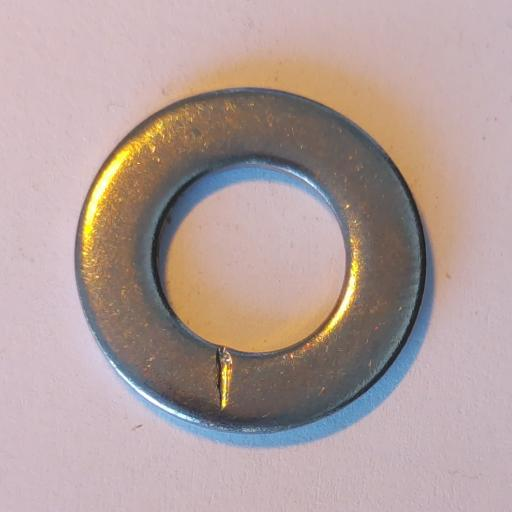scratch: (215, 346, 233, 411)
